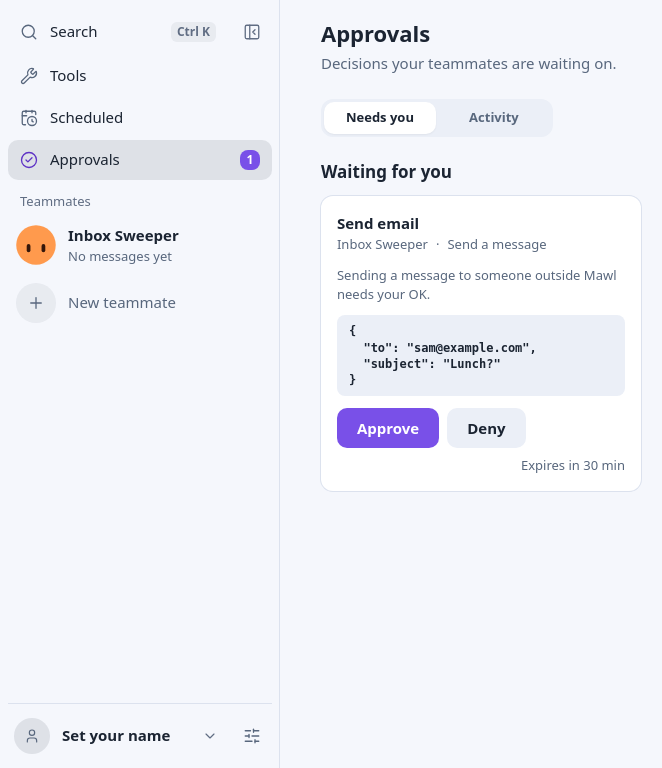
Scenario: approvals inbox › shows the true status on a conflict, without an error
The width and height of the screenshot is (662, 768).
Click the button "Approve".
click(388, 428)  # box [337, 408, 439, 448]
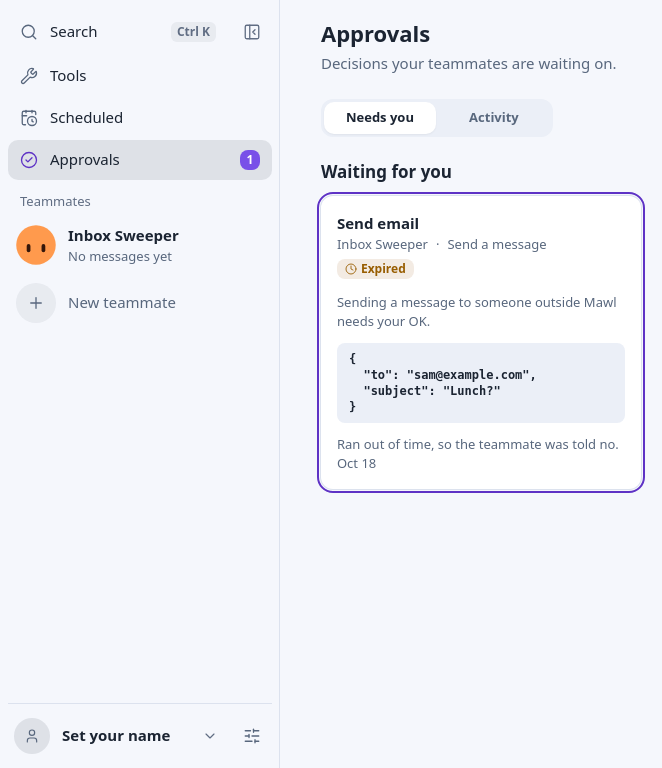
Expected: the text "Expired" is shown, [337, 259, 414, 279]
Expected: the button "Approve" is gone
